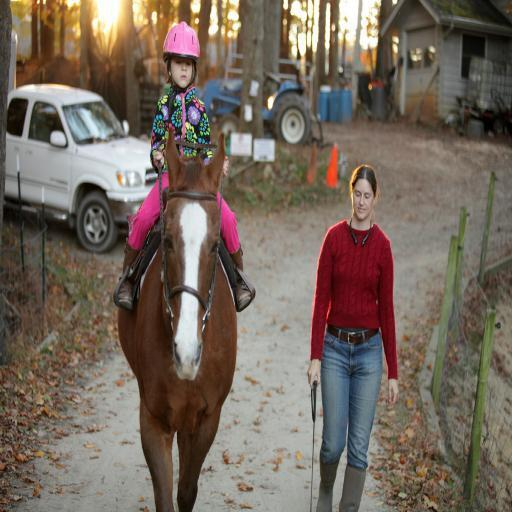horse: (116, 126, 238, 512)
